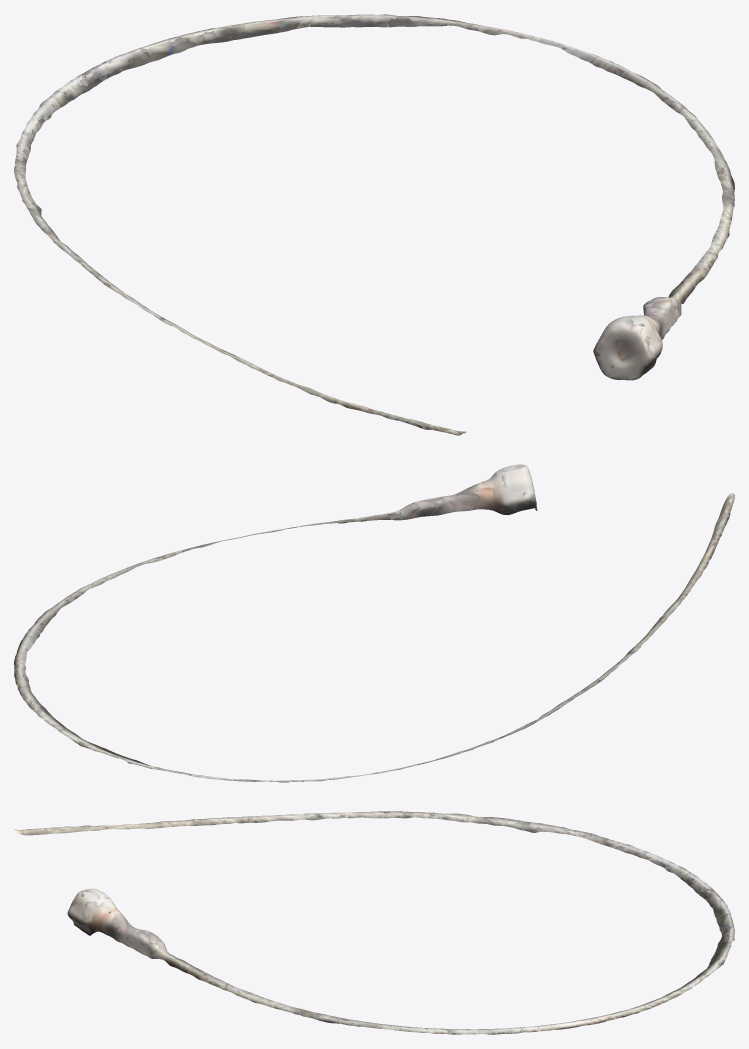
Rendered from catheter.glb.
The picture shows the model from 3 angles, top to bottom: view 1: azimuth 30°, elevation 25°; view 2: azimuth 150°, elevation 25°; view 3: azimuth 270°, elevation 25°; orthographic projection. The views are drawn at different scales.
Parts seen in each view (by area): view 1: Object_2; view 2: Object_2; view 3: Object_2.
Part boxes in pixels (box(x1,y1,x2,y2)): Object_2: box(14, 14, 734, 435); Object_2: box(14, 464, 734, 782); Object_2: box(14, 811, 734, 1034).
Bounding box in the file's own units: 0.9331 × 0.0811 × 1.31.
1 material, 1 textured.
